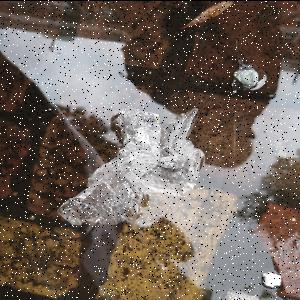Trash: (56, 106, 206, 227)
